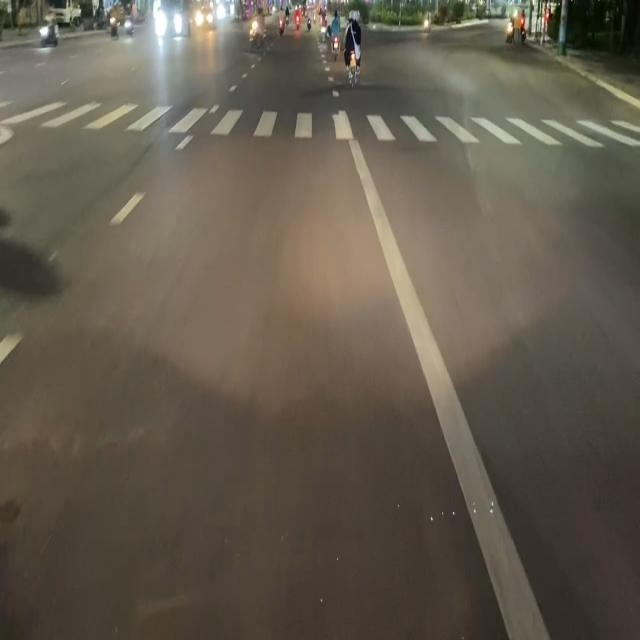walk-crossing: (8, 99, 640, 156)
